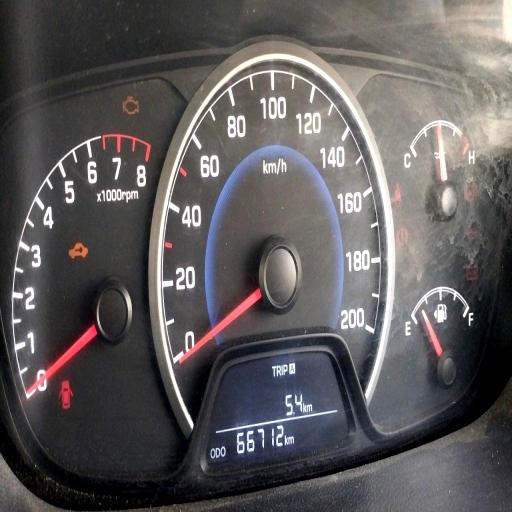check_engine: (122, 96, 139, 115)
tachometer: (12, 130, 156, 439)
